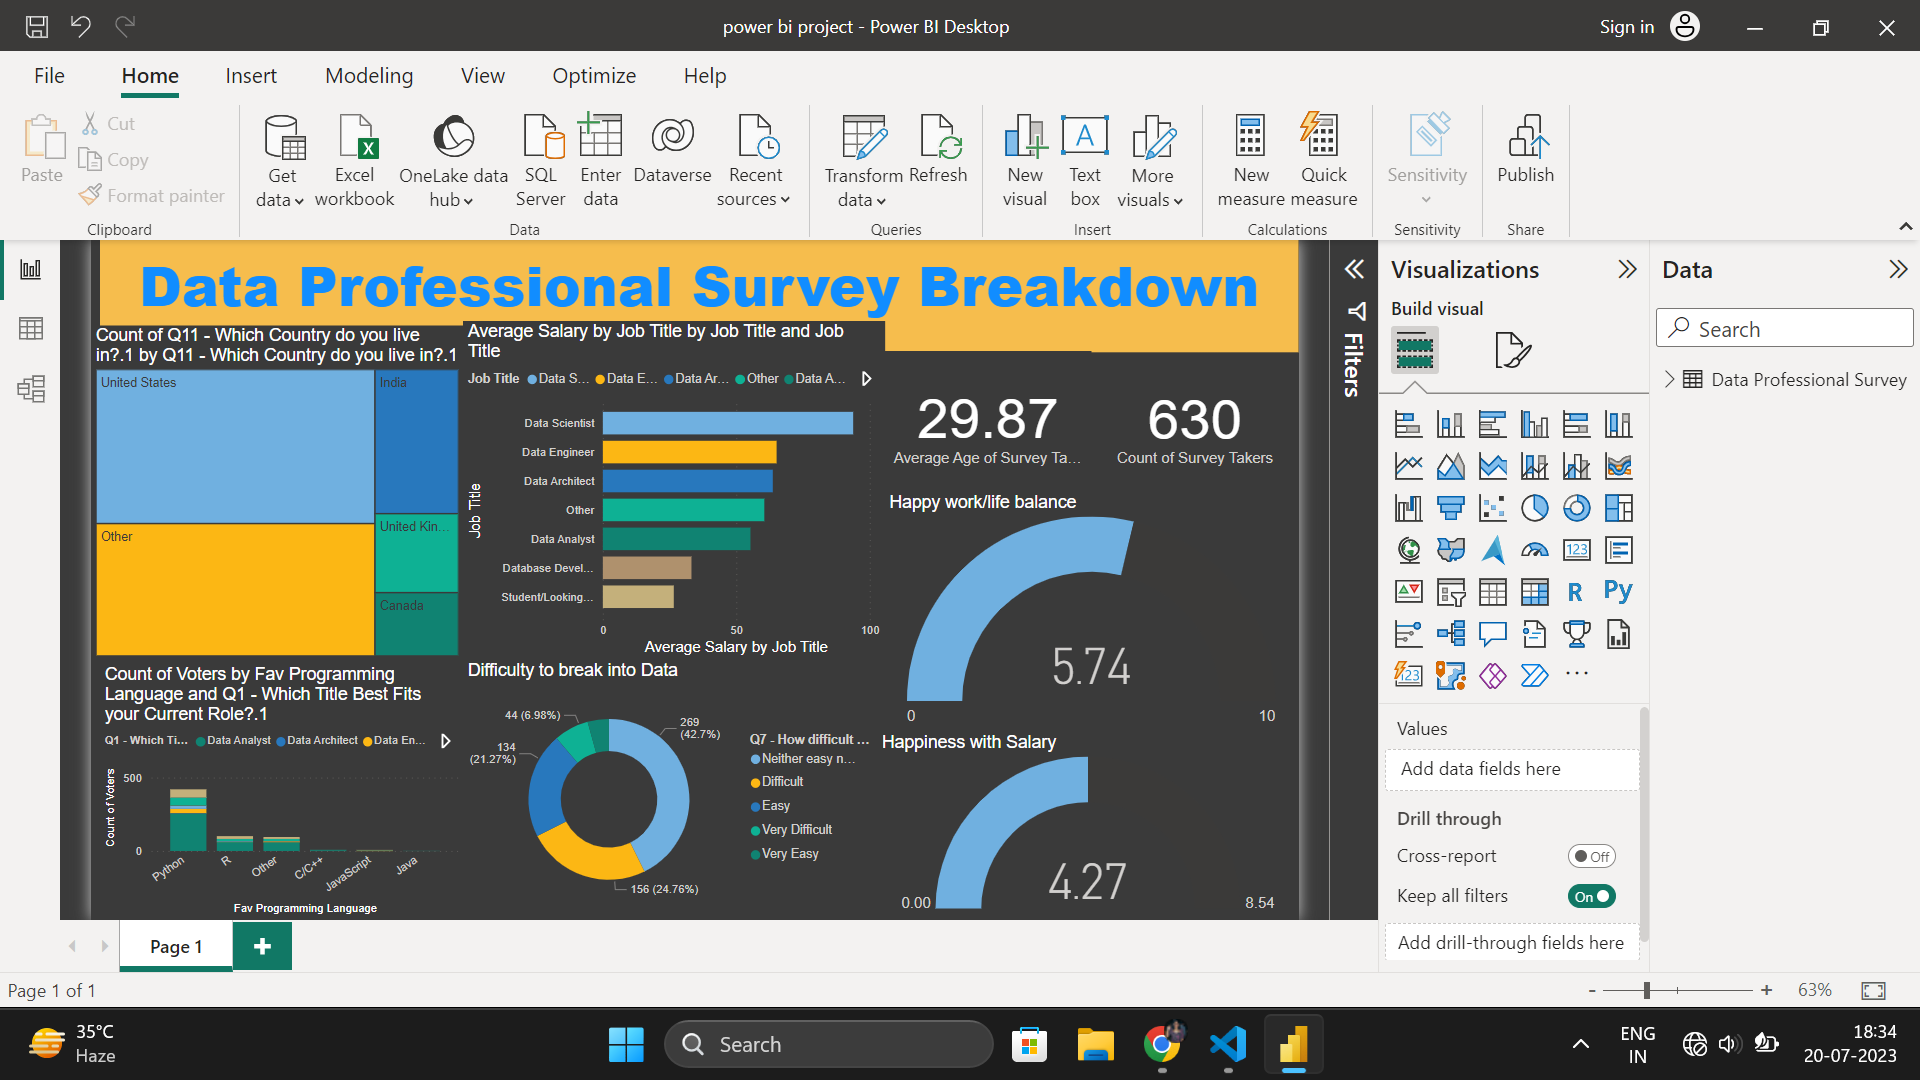

This screenshot's page, from the dashboard's own definition file:
{"tool":"powerbi","page":{"name":"Page 1","canvas":[1280,720],"ordinal":0},"visuals":[{"type":"textbox","box":[9.4,0,1269.9,119.1],"z":0},{"type":"card","fields":{"Values":["Count(Data Professional Survey.Unique ID)"]},"box":[1060.2,119.1,219.2,149.3],"z":1000},{"type":"card","fields":{"Values":["Avg(Data Professional Survey.Q10 - Current Age)"]},"box":[841,117.2,219.2,151.2],"z":2000},{"type":"barChart","fields":{"Category":["Data Professional Survey.Q1 - Which Title Best Fits your Current Role?.1"],"Y":["Avg(Data Professional Survey.Average Salary)"],"Series":["Data Professional Survey.Q1 - Which Title Best Fits your Current Role?.1"]},"box":[394.5,86.4,447.1,358.8],"z":3000},{"type":"columnChart","fields":{"Category":["Data Professional Survey.Q5 - Favorite Programming Language.1"],"Y":["CountNonNull(Data Professional Survey.Unique ID)"],"Series":["Data Professional Survey.Q1 - Which Title Best Fits your Current Role?.1"]},"box":[9.1,449.1,385.6,269.9],"z":4000},{"type":"treemap","fields":{"Values":["CountNonNull(Data Professional Survey.Q11 - Which Country do you live in?.1)"],"Group":["Data Professional Survey.Q11 - Which Country do you live in?.1"]},"box":[0,90.2,394.5,355.1],"z":5000},{"type":"gauge","title":"Happy work/life balance","fields":{"Y":["Avg(Data Professional Survey.Q6 - How Happy are you in your Current Position with the following? (Work/Life Balance))"],"MinValue":["Min(Data Professional Survey.Q6 - How Happy are you in your Current Position with the following? (Work/Life Balance))1"],"MaxValue":["Max(Data Professional Survey.Q6 - How Happy are you in your Current Position with the following? (Work/Life Balance))2"]},"box":[841.5,267.6,437.8,254],"z":6000},{"type":"gauge","title":"Happiness with Salary","fields":{"Y":["Avg(Data Professional Survey.Q6 - How Happy are you in your Current Position with the following? (Salary))"]},"box":[832.4,521.7,446.8,197.3],"z":7000},{"type":"donutChart","title":"Difficulty to break into Data","fields":{"Category":["Data Professional Survey.Q7 - How difficult was it for you to break into Data?"],"Y":["CountNonNull(Data Professional Survey.Q7 - How difficult was it for you to break into Data?)"]},"box":[394.5,445.2,437.7,274.3],"z":8000}]}

Visuals, with their boxes on the page's 1280x720 design canvas (x1, y1, x2, y2). These are canvas units, not pixel positions in the 1920x1080 screenshot, which may show the page scaled, cropped or inside an application window:
textbox: {"x1": 9, "y1": 0, "x2": 1279, "y2": 119}
card - Count(Data Professional Survey.Unique ID): {"x1": 1060, "y1": 119, "x2": 1279, "y2": 268}
card - Avg(Data Professional Survey.Q10 - Current Age): {"x1": 841, "y1": 117, "x2": 1060, "y2": 268}
barChart - Data Professional Survey.Q1 - Which Title Best Fits your Current Role?.1 x Avg(Data Professional Survey.Average Salary): {"x1": 394, "y1": 86, "x2": 842, "y2": 445}
columnChart - Data Professional Survey.Q5 - Favorite Programming Language.1 x CountNonNull(Data Professional Survey.Unique ID): {"x1": 9, "y1": 449, "x2": 395, "y2": 719}
treemap - CountNonNull(Data Professional Survey.Q11 - Which Country do you live in?.1) x Data Professional Survey.Q11 - Which Country do you live in?.1: {"x1": 0, "y1": 90, "x2": 394, "y2": 445}
"Happy work/life balance" gauge: {"x1": 842, "y1": 268, "x2": 1279, "y2": 522}
"Happiness with Salary" gauge: {"x1": 832, "y1": 522, "x2": 1279, "y2": 719}
"Difficulty to break into Data" donutChart: {"x1": 394, "y1": 445, "x2": 832, "y2": 720}
